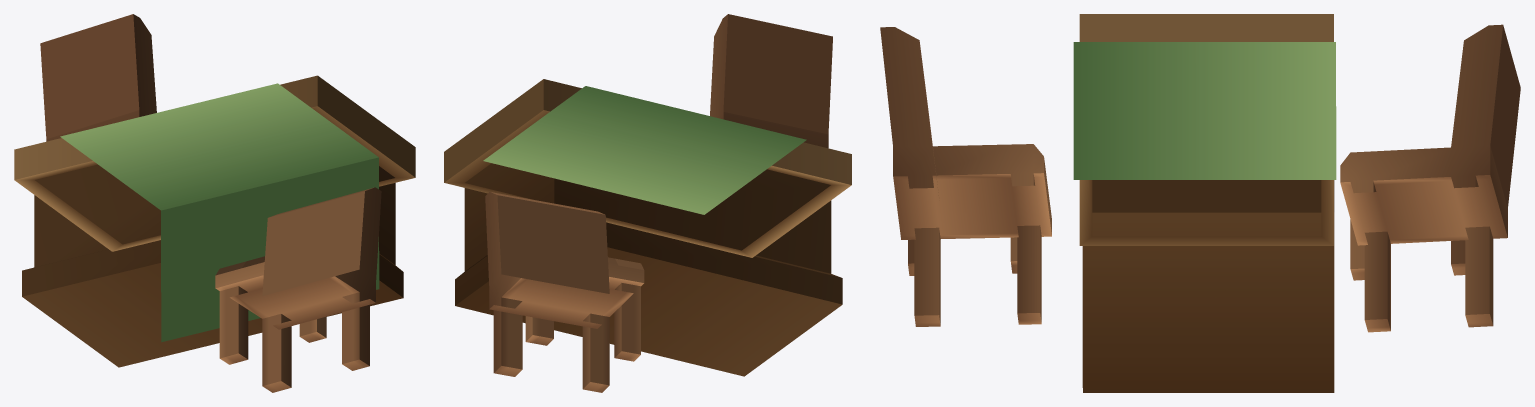
Rendered from meja_guild_a.glb.
The picture shows the model from 3 angles, left to right: view 1: azimuth 30°, elevation 25°; view 2: azimuth 150°, elevation 25°; view 3: azimuth 270°, elevation 25°; orthographic projection. The views are drawn at different scales.
Parts seen in each view (by area): view 1: Plane040; view 2: Plane040; view 3: Plane040.
Part boxes in pixels (x1=…): Plane040: x1=14, y1=14, x2=415, y2=392; Plane040: x1=444, y1=14, x2=851, y2=392; Plane040: x1=880, y1=14, x2=1520, y2=392.
Bounding box in the file's own units: 0.9082 × 0.5302 × 1.28.
Materials: 1 (1 with a texture image).
